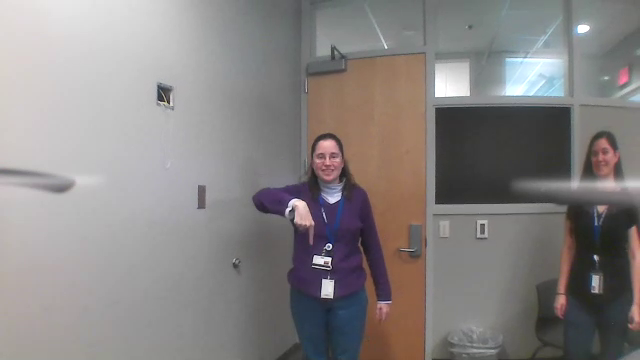down: (287, 194, 320, 248)
